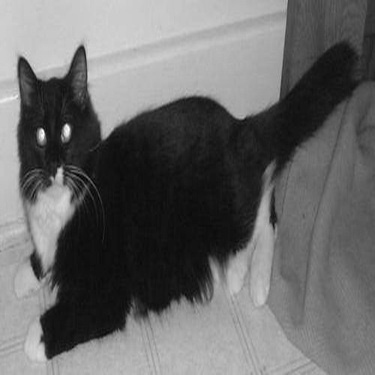cat: (15, 40, 361, 360)
